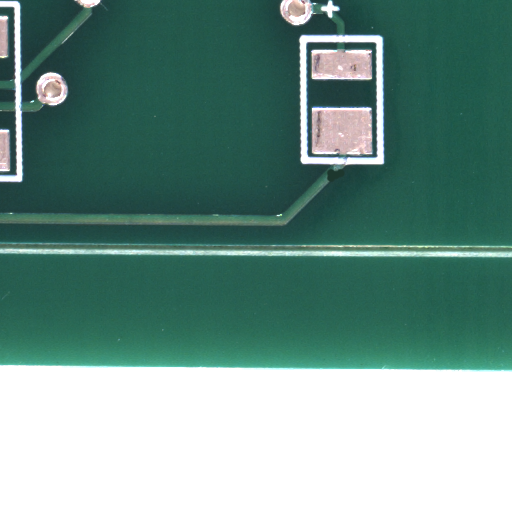Mouse_bite: (335, 175, 353, 188)
